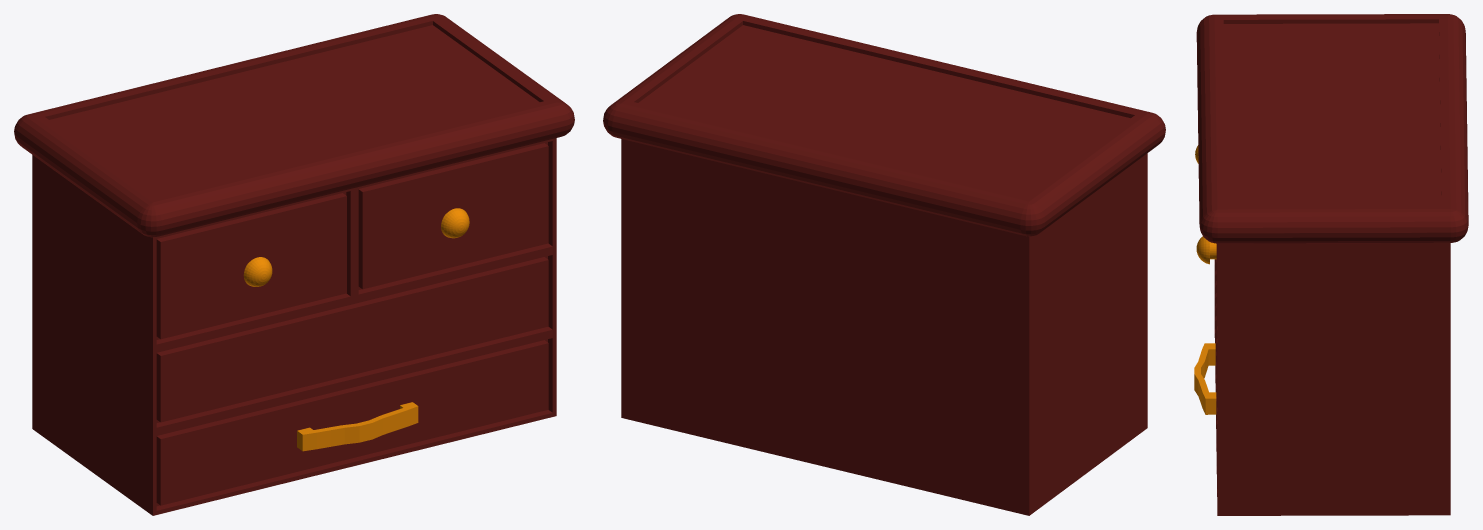
Rendered from level13.1.fbx.
The picture shows the model from 3 angles, left to right: view 1: azimuth 30°, elevation 25°; view 2: azimuth 150°, elevation 25°; view 3: azimuth 270°, elevation 25°; orthographic projection. The views are drawn at different scales.
Visible parts, largest first — view 1: polySurface21; view 2: polySurface21; view 3: polySurface21.
Part boxes in pixels (bbox=[...]): polySurface21: bbox=[14, 14, 574, 515]; polySurface21: bbox=[603, 14, 1165, 515]; polySurface21: bbox=[1194, 14, 1468, 515].
Size of the model in its own units: 3.62 by 2.47 by 2.
